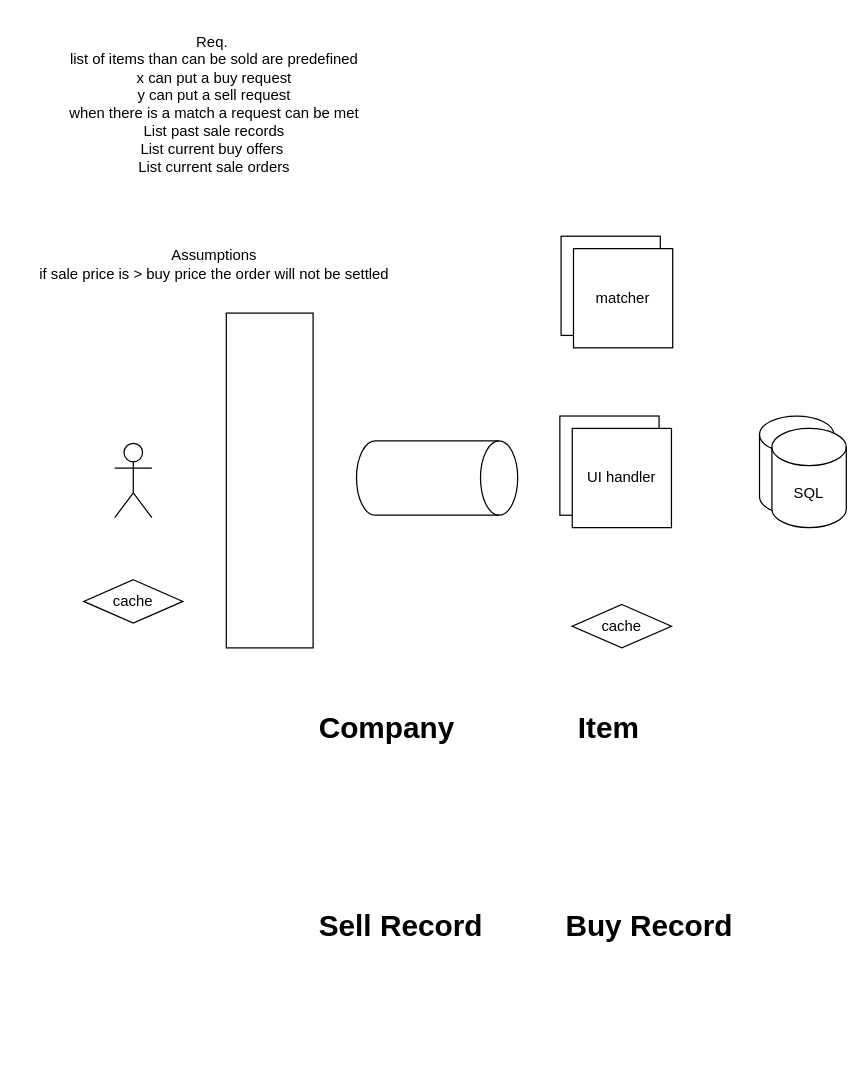
The diagram is 868 pixels wide and 1071 high, and some of its shapes have lost their labels. Each missing label, with the box of its shape:
Actor: (113, 442, 152, 518)
API Gateway: (225, 312, 313, 648)
